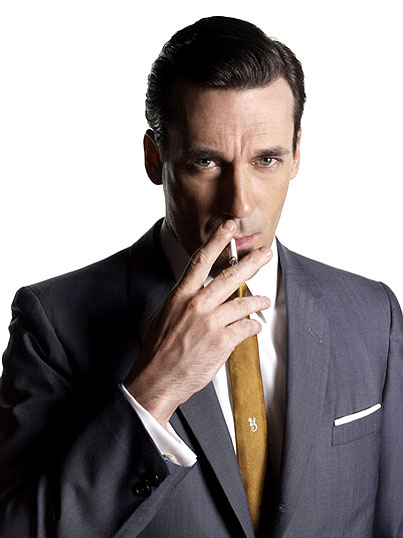cigarette: (221, 235, 238, 264)
